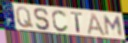A: (87, 13, 108, 38)
C: (51, 9, 70, 33)
M: (103, 14, 124, 37)
Q: (15, 6, 36, 30)
S: (34, 7, 52, 31)
T: (70, 11, 84, 34)
